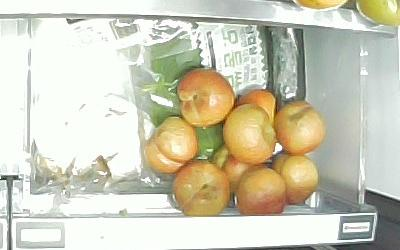prune: (177, 67, 234, 128), (173, 160, 230, 217), (223, 105, 277, 165), (143, 116, 197, 174), (275, 100, 326, 156), (235, 166, 287, 216), (211, 144, 264, 191), (273, 153, 318, 208), (237, 89, 278, 132)
